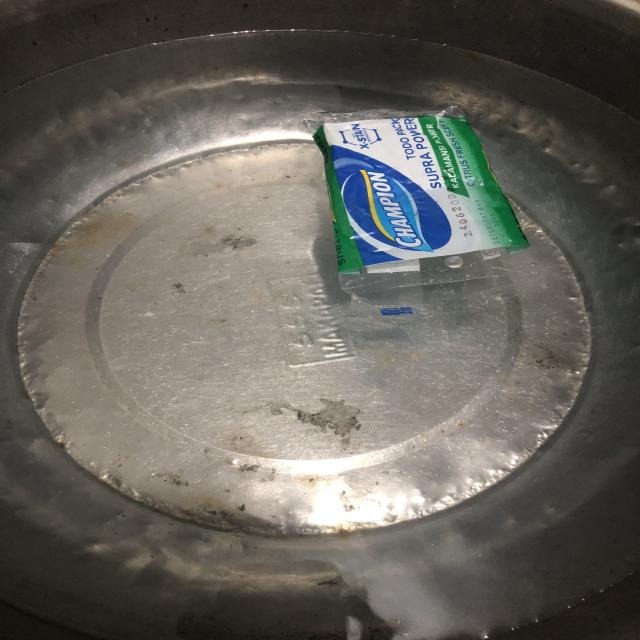Plastic Wrapper: (286, 104, 523, 294)
